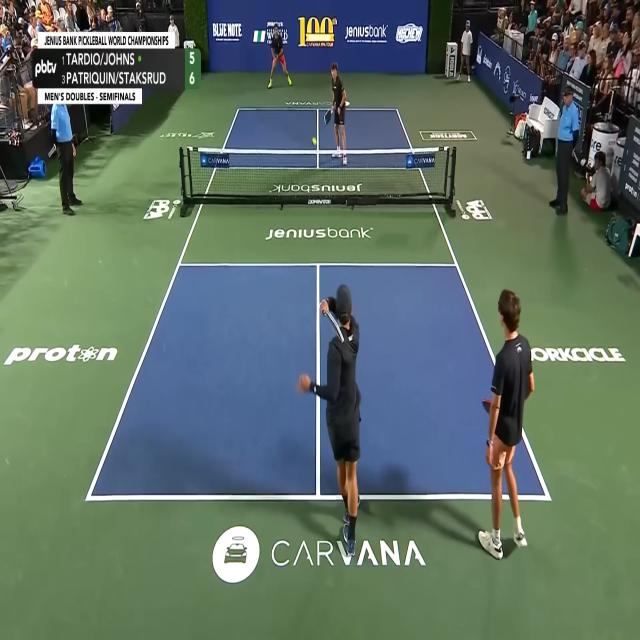ball: (312, 136, 316, 147)
